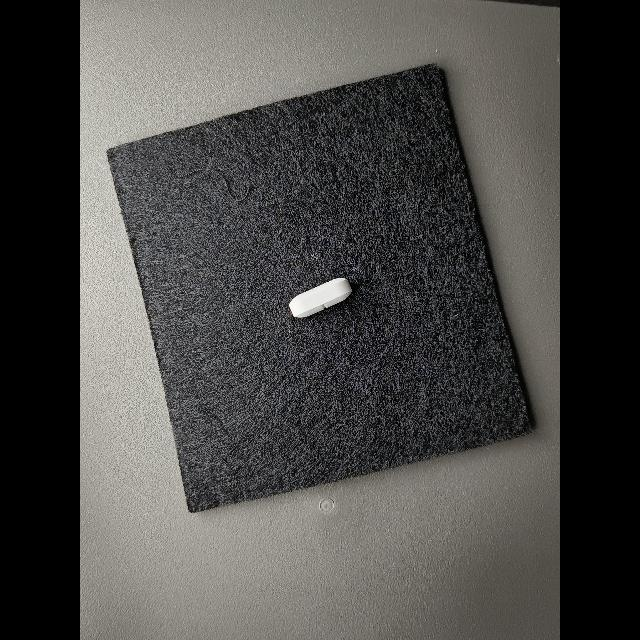Intact Pill: (289, 278, 352, 318)
